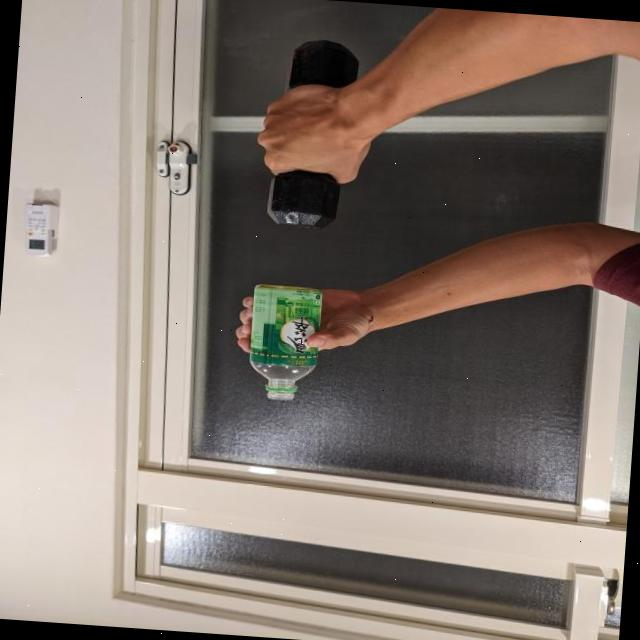bottle: (235, 286, 332, 406)
label: (242, 288, 329, 370)
